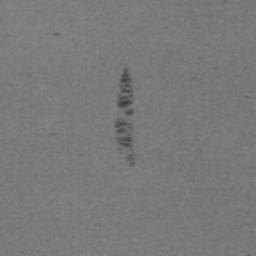Secondary rust skin: (115, 121, 134, 164), (118, 68, 134, 116)
